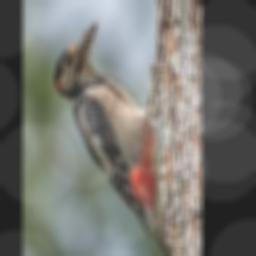Woodpecker: (54, 22, 173, 256)
